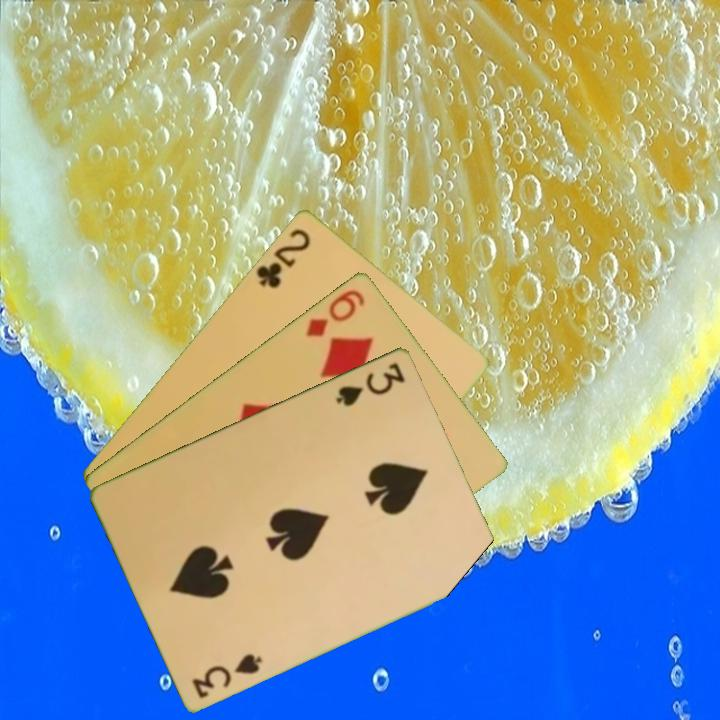2c: (252, 224, 314, 291)
3s: (188, 649, 265, 701), (332, 358, 408, 409)
6d: (302, 285, 368, 340)
